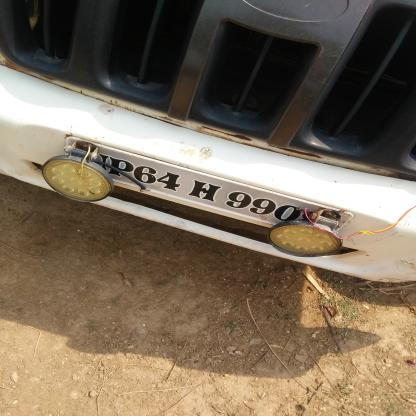Number_Plate_Detected: (75, 144, 315, 232)
